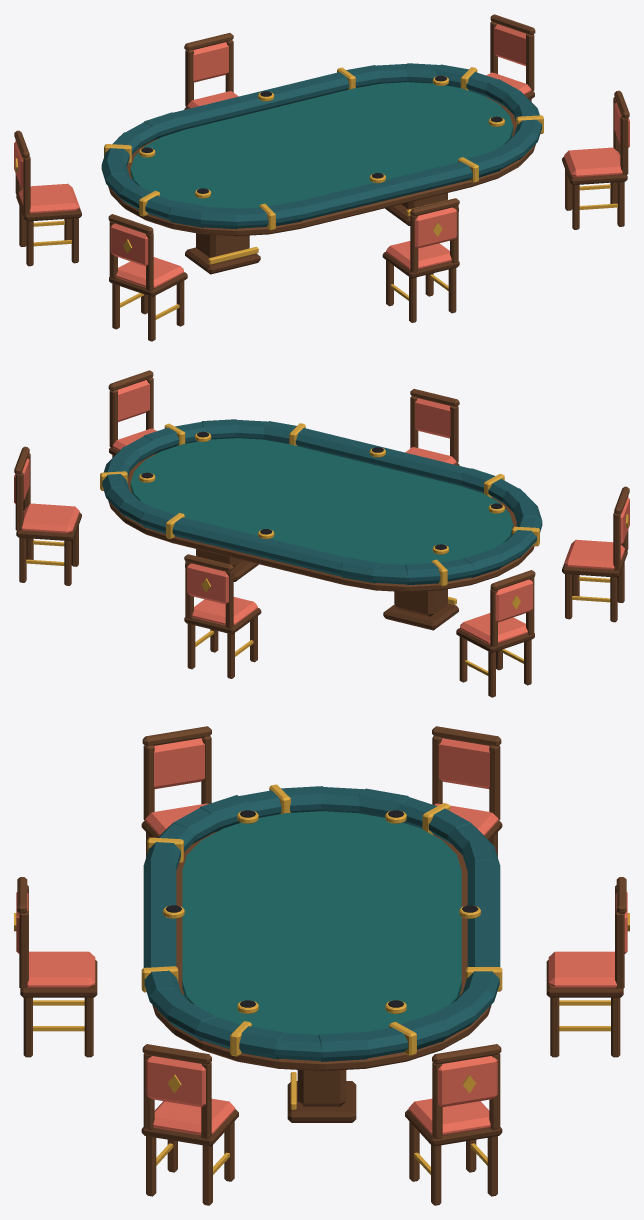
File: poker_table.glb
3 renders of one model, top to bottom at view 1: azimuth 30°, elevation 25°; view 2: azimuth 150°, elevation 25°; view 3: azimuth 270°, elevation 25°, orthographic. The views are drawn at different scales.
Parts seen in each view (by area): view 1: poker_table; view 2: poker_table; view 3: poker_table.
Part boxes in pixels (x1,y1,x2,y2): poker_table: (14, 14, 629, 341); poker_table: (14, 370, 629, 697); poker_table: (14, 726, 629, 1205).
Bounding box in the file's own units: 3.88 × 0.83 × 3.04.
